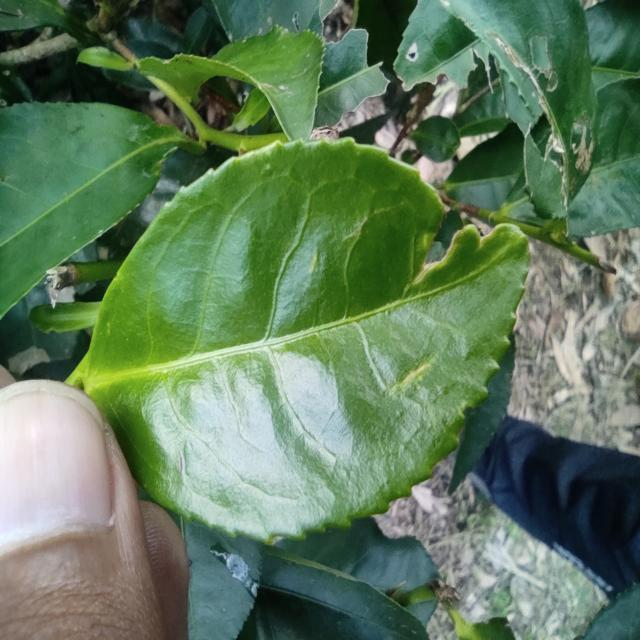Category C(4-7 days): (26, 123, 542, 568)
